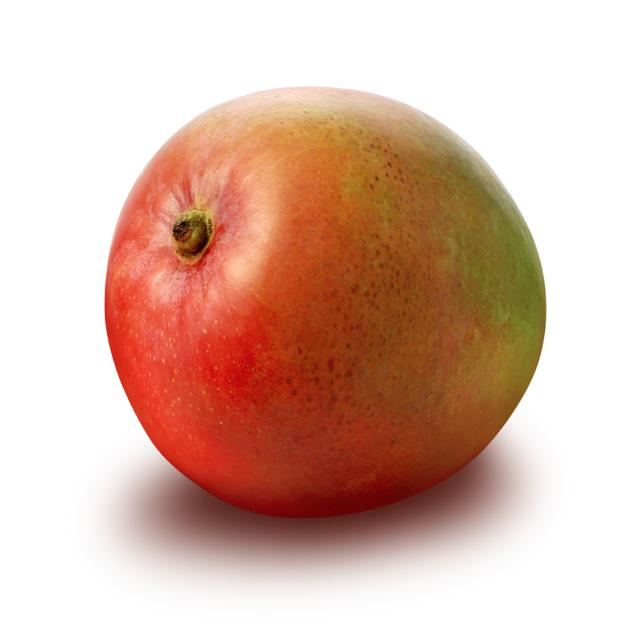mango: (95, 79, 545, 547)
